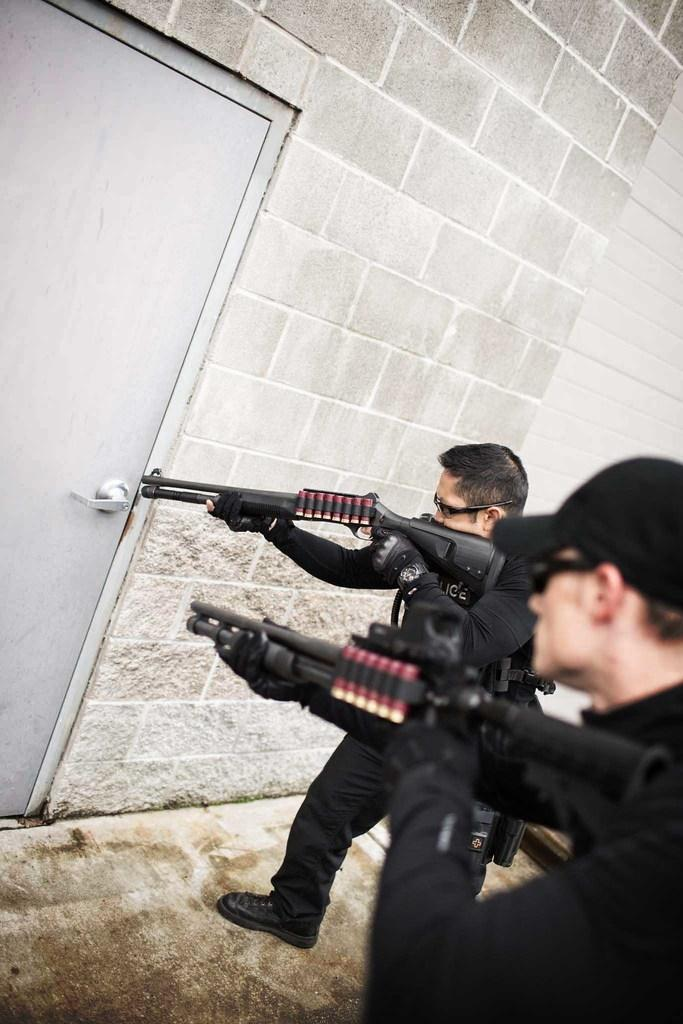Shotgun: (179, 593, 680, 872), (134, 462, 511, 616)
